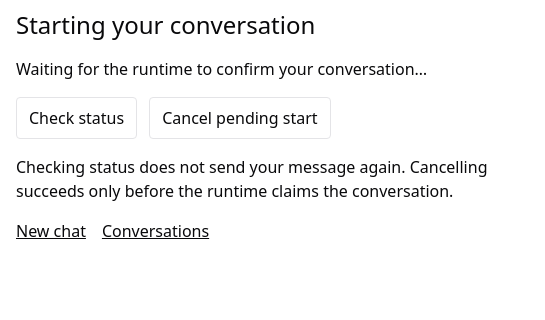
Scenario: does not claim cancellation when the runtime won the binding race
What coordinates should you click on to do the following:
click the button "Cancel pending start"
I would click on:
 (240, 118)
Its box is [149,97,331,139].
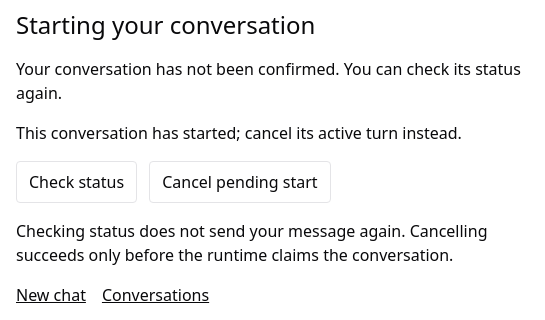
Expected: the message "This conversation has started; cancel its active turn instead." is shown, [16,121,528,145]
Expected: the button "Check status" is enabled, [16,161,137,203]
